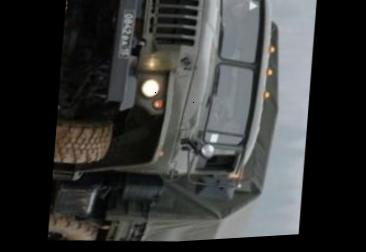truck: (46, 0, 295, 249)
